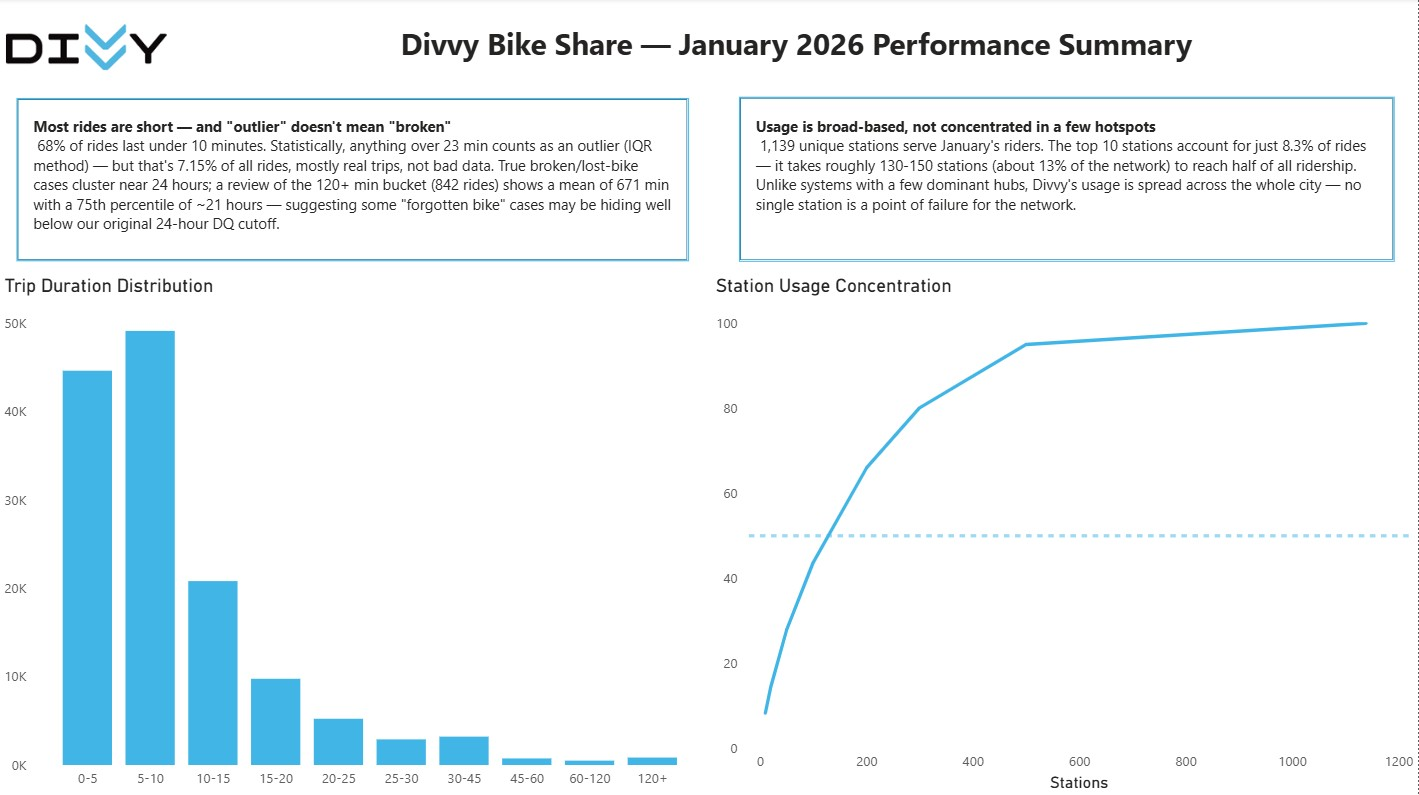

The dashboard page shown, as its layout file describes it:
{"tool":"powerbi","page":{"name":"Distribution - Duration and Station","canvas":[1280,720],"ordinal":5},"visuals":[{"type":"image","box":[0,0,157.6,88.5],"z":0},{"type":"textbox","box":[157.4,0,1122.1,88.7],"z":1000},{"type":"columnChart","title":"Trip Duration Distribution","fields":{"Category":["Jan2026_Clean.Duration Bucket"],"Y":["Jan2026_Clean.Total Rides"]},"box":[0,248.8,640,472.5],"z":2000},{"type":"textbox","box":[26.2,101.2,587.5,127.5],"z":3000},{"type":"shape","box":[16.2,90,606.2,147.5],"z":4000},{"type":"lineChart","title":"Station Usage Concentration","fields":{"Category":["StationConcentration.Stations"],"Y":["Sum(StationConcentration.CumulativePct)"]},"box":[641.2,248.8,638.8,471.2],"z":5000},{"type":"textbox","box":[677.5,101.2,568.8,111.2],"z":6000},{"type":"shape","box":[667.5,88.8,591.2,148.8],"z":7000}]}

Visuals, with their boxes in screenshot pixels (x1, y1, x2, y2), scaled from the page's 1280x720 canvas onto the 1419x795 screenshot:
image: (0,0,175,98)
textbox: (174,0,1418,98)
"Trip Duration Distribution" columnChart: (0,275,710,794)
textbox: (29,112,680,253)
shape: (18,99,690,262)
"Station Usage Concentration" lineChart: (711,275,1418,794)
textbox: (751,112,1382,235)
shape: (740,98,1395,262)
